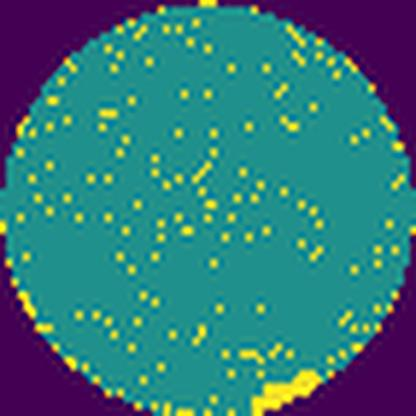Edge-Loc: (240, 355, 339, 416)
